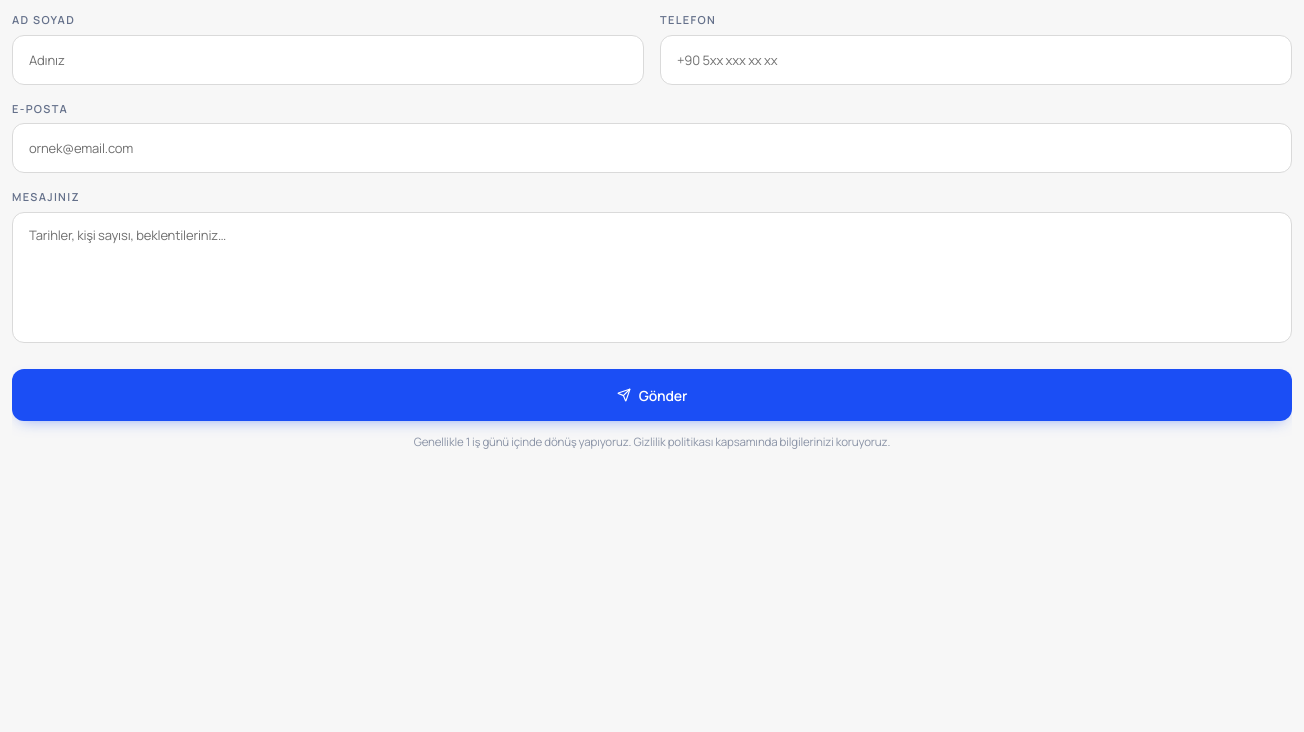
Test: ContactForm — çoklu dil › 33) tr: telefon/e-posta zorunluluğu kendi dilinde
In the field with placeholder "Adınız": x=328, y=60 [12,34,644,84], type "Ad"
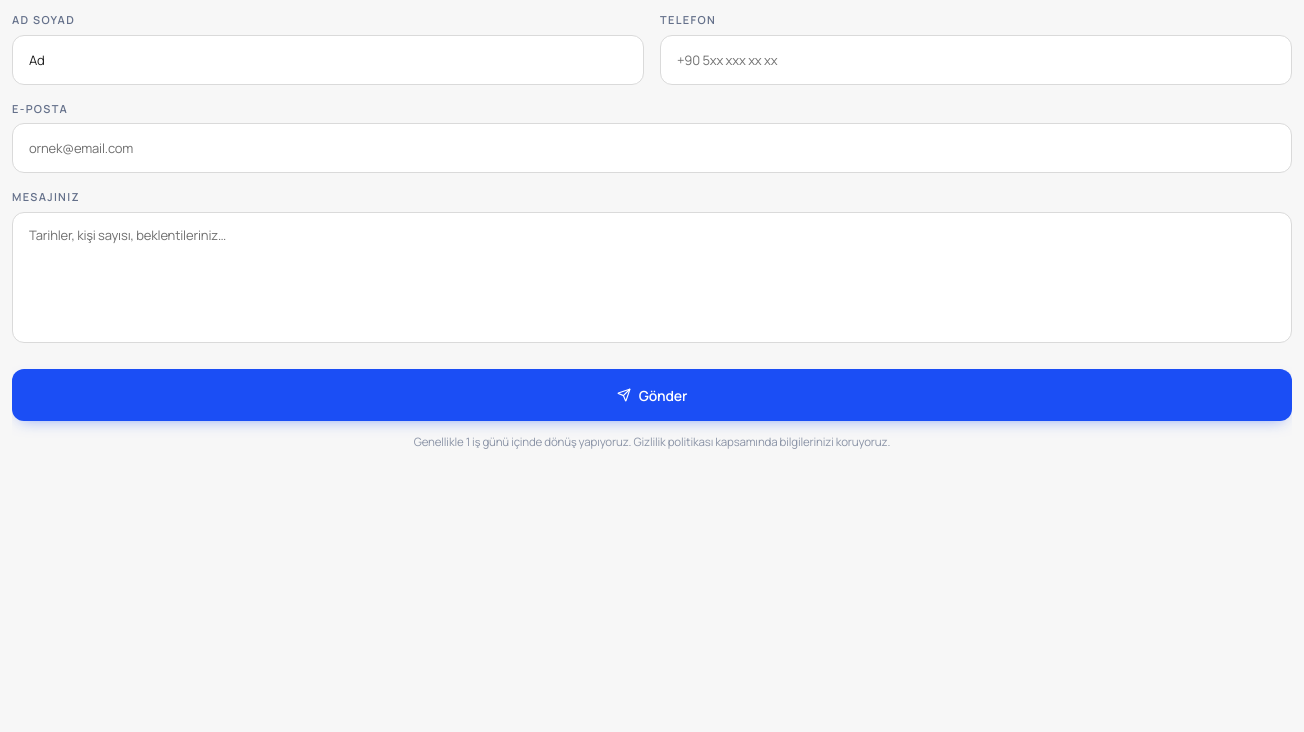
In the text box with placeholder "Tarihler, kişi sayısı, beklentileriniz…": x=652, y=277 [12,212,1292,343], type "On karakterden uzun bir mesaj."
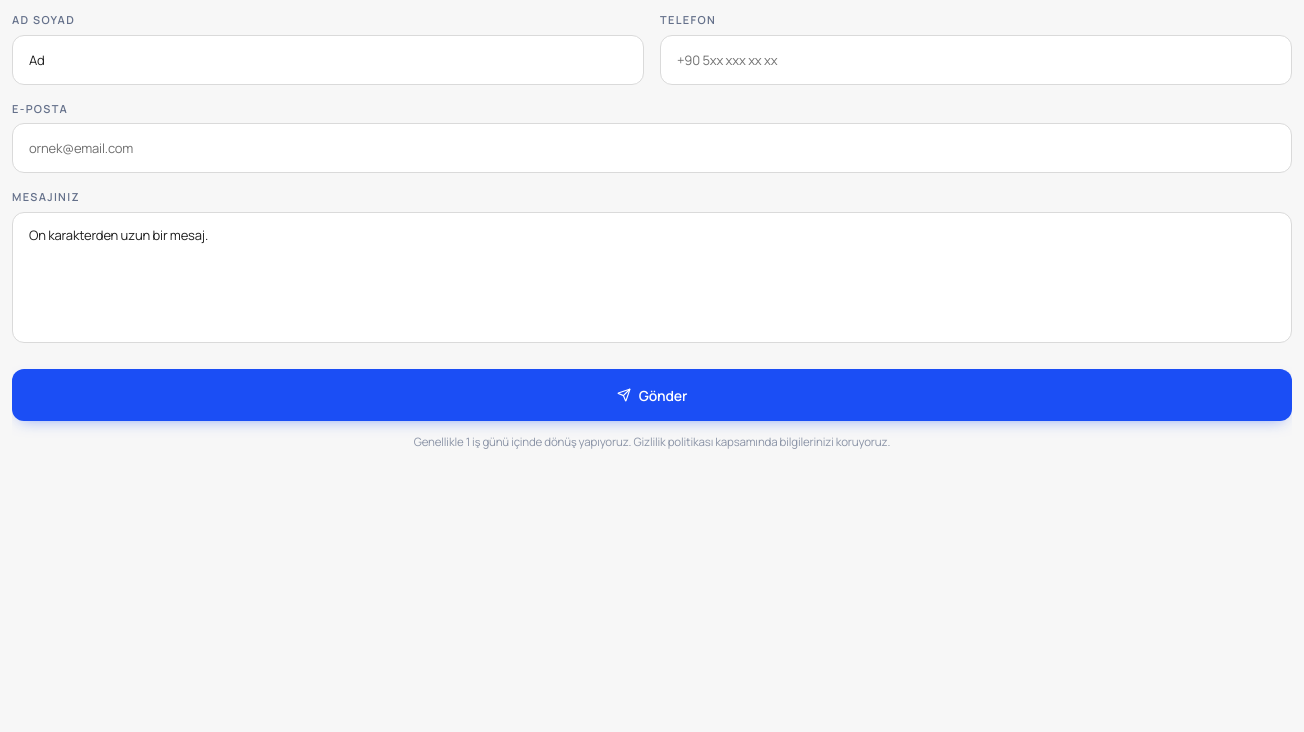
Submit the text "Gönder", box [12,12,1292,452]
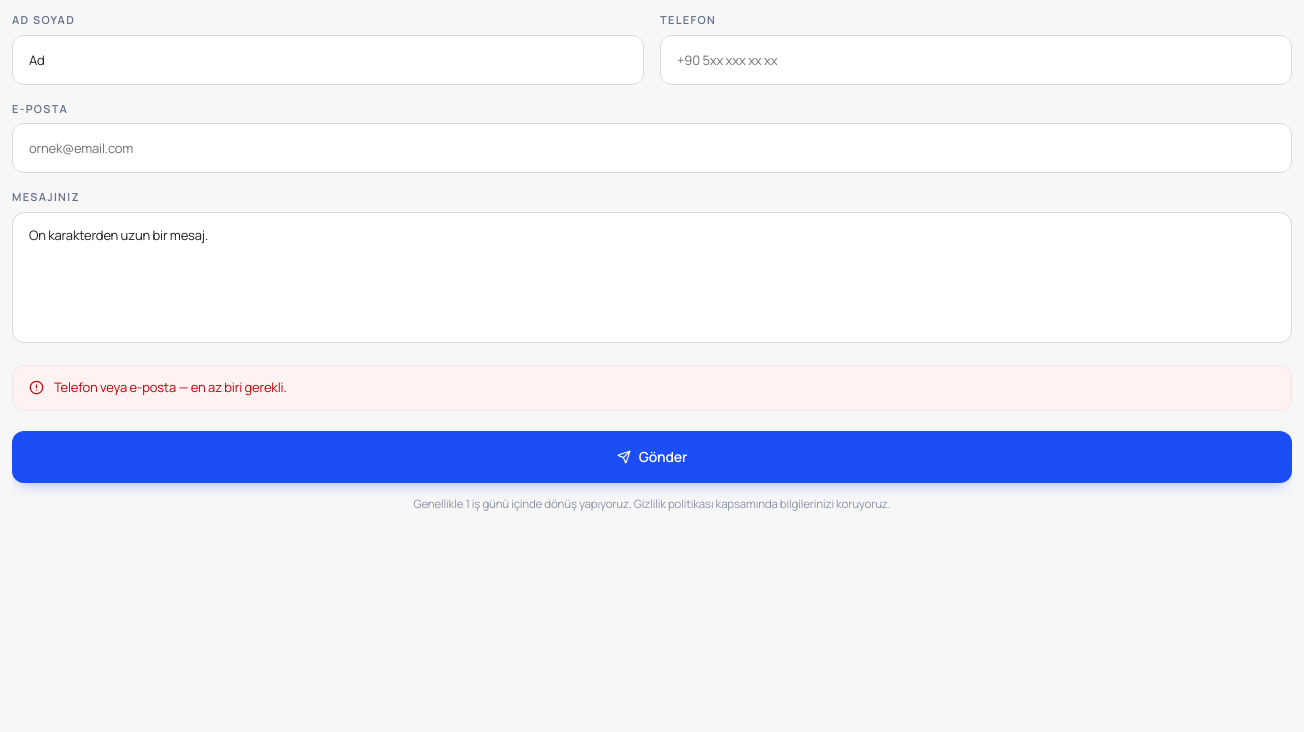
expect the text "Telefon veya e-posta — en az biri gerekli." is shown: met, box [54,378,286,398]
